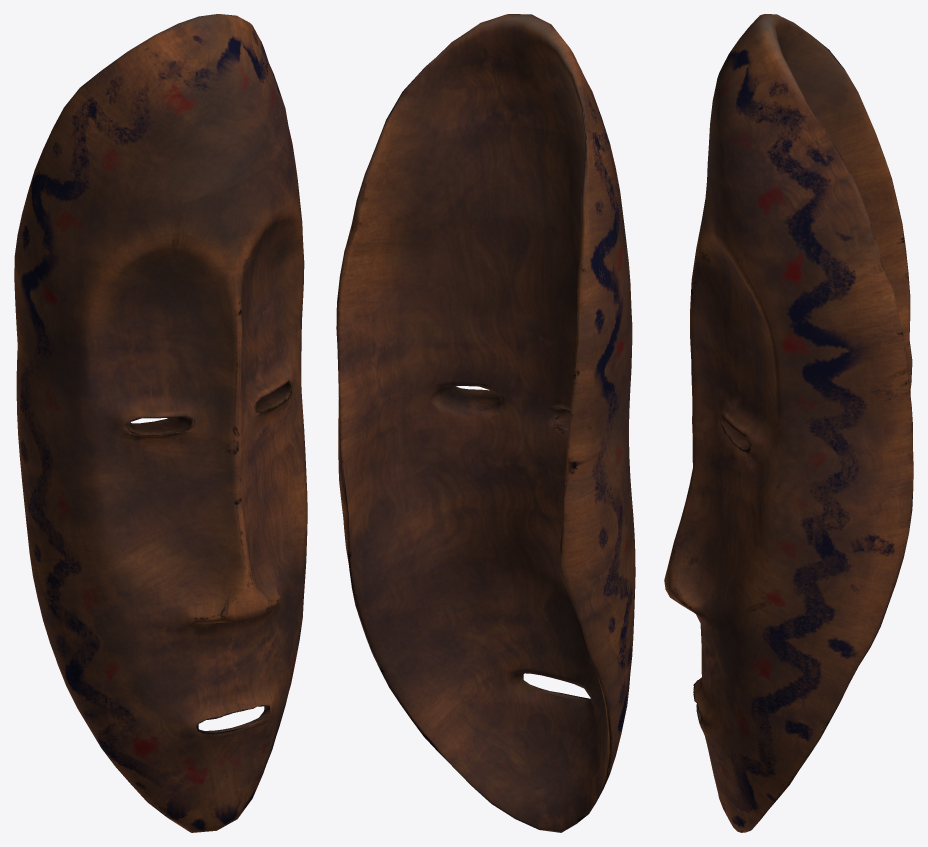
File: african_mask.glb
The picture shows the model from 3 angles, left to right: view 1: azimuth 30°, elevation 25°; view 2: azimuth 150°, elevation 25°; view 3: azimuth 270°, elevation 25°; orthographic projection. The views are drawn at different scales.
Parts seen in each view (by area): view 1: g; view 2: g; view 3: g.
Part boxes in pixels (x1,y1,x2,y2): g: (14,14,307,832); g: (336,14,635,832); g: (664,14,913,832).
Size of the model in its own units: 0.6613 by 2 by 0.5604.
1 material, 1 textured.
